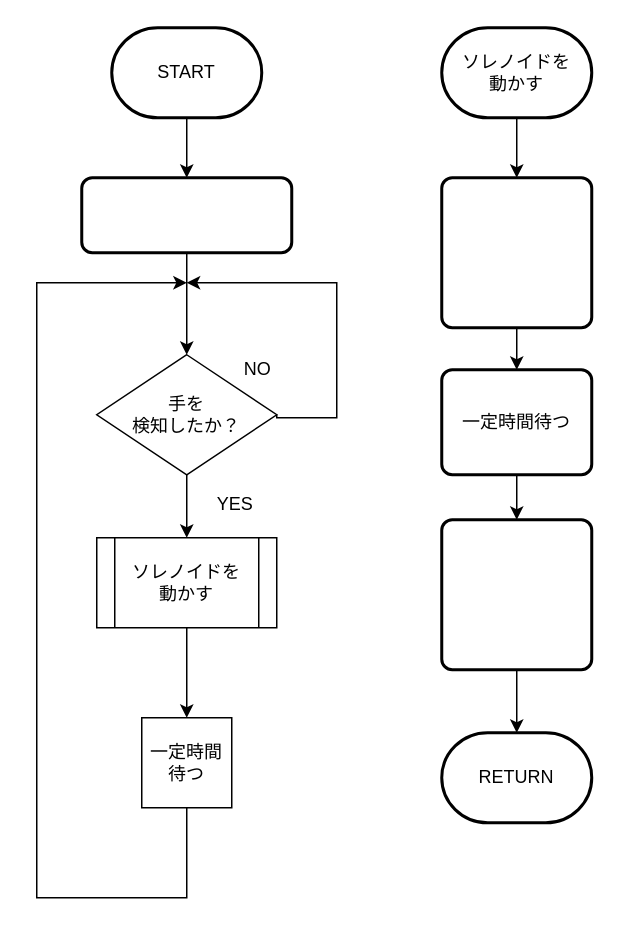
Image size: 620x936. Some labels were removed from this diagram. Here are the shapes that lost their labels. From the top down, the box of each, then its label:
(80, 176, 292, 254): 初期設定 （ポート入出力設定）
(440, 176, 592, 328): ソレノイドが 接続されているポートを HIGHへ
(440, 518, 592, 670): ソレノイドが 接続されているポートを LOWへ
